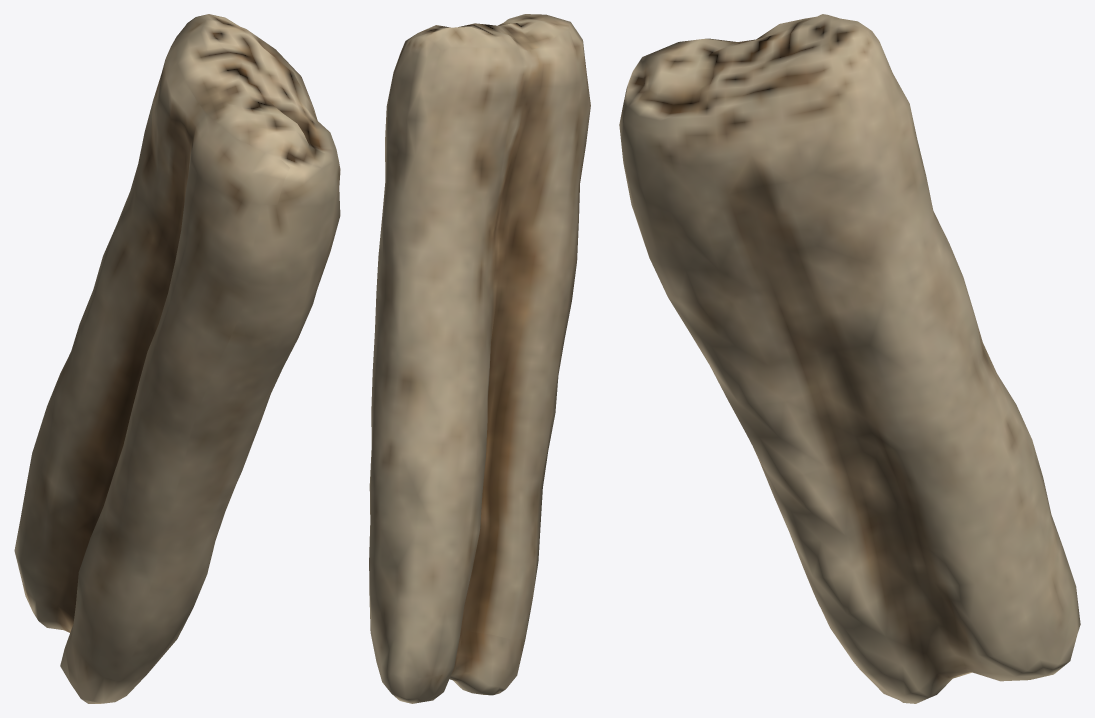
Rendered from Mandibular_Premolar2.glb.
3 renders of one model, left to right at view 1: azimuth 30°, elevation 25°; view 2: azimuth 150°, elevation 25°; view 3: azimuth 270°, elevation 25°, orthographic. The views are drawn at different scales.
Visible parts, largest first — view 1: Group13383_Mesh.016; view 2: Group13383_Mesh.016; view 3: Group13383_Mesh.016.
Boxes of the visible parts, x1=… form: Group13383_Mesh.016: x1=14, y1=14, x2=340, y2=703; Group13383_Mesh.016: x1=369, y1=14, x2=590, y2=703; Group13383_Mesh.016: x1=619, y1=14, x2=1080, y2=703.
Bounding box in the file's own units: 0.0211 × 0.0763 × 0.0445.
Materials: 1 (1 with a texture image).
